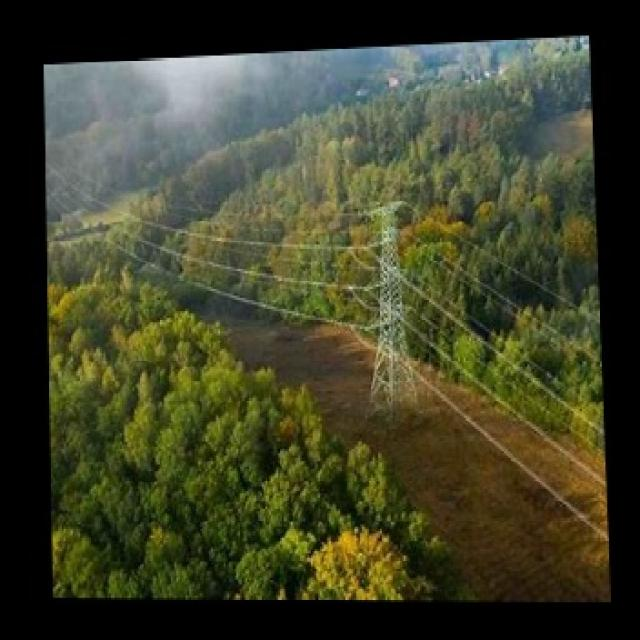utility poles: (343, 176, 441, 422)
